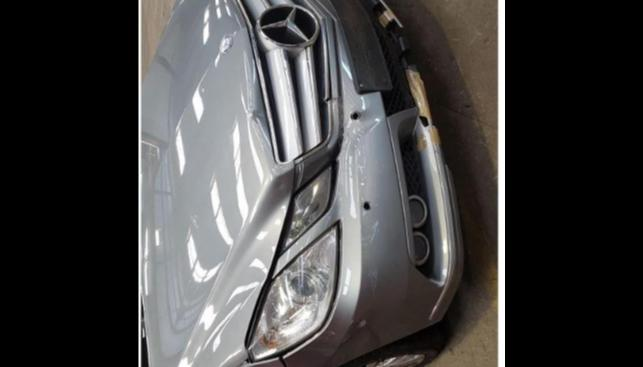Broken part: (362, 0, 463, 331), (242, 145, 341, 364), (241, 0, 333, 163)
Dent: (228, 326, 347, 367), (246, 81, 270, 150)
Missing part: (329, 0, 392, 94), (361, 199, 373, 212), (350, 110, 361, 121)
Paint chip: (405, 70, 431, 120), (378, 7, 396, 28), (429, 127, 440, 145), (417, 134, 427, 150)
Scratch: (328, 331, 338, 336)
